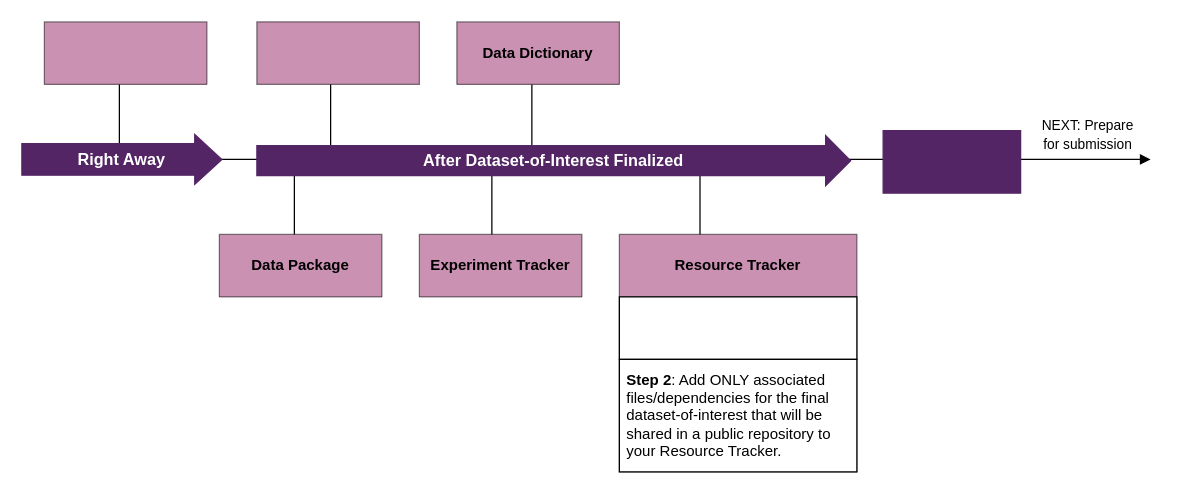
Image size: 1183x494. Some labels were removed from this diagram. The centre of each missing label's shape, as x and y in pixels:
Finish Preparing Data Package Locally: point 951,161
List contributing experiments: point 337,52
Set Yourself Up For Success: point 125,52
Step 1 : Add your finalized dataset-of-interest to your Resource Tracker.: point 737,327
